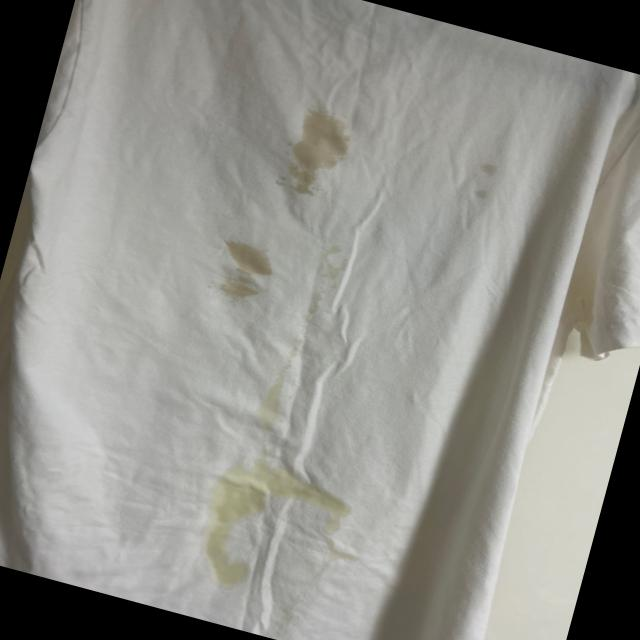stain: (181, 450, 348, 614), (259, 96, 362, 220), (187, 230, 280, 312), (244, 368, 314, 458), (292, 230, 359, 294), (442, 144, 506, 206)
